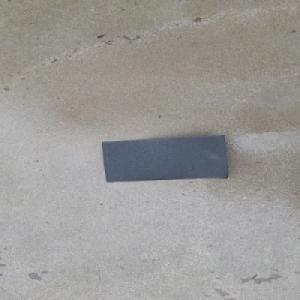PaintChip: (101, 135, 229, 184)
